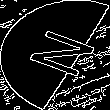N_SE: (13, 26, 97, 84)
